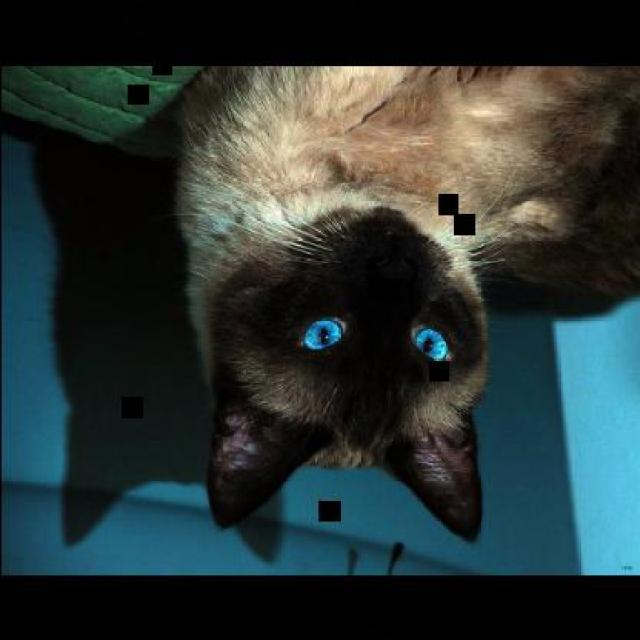unauthorized: (163, 63, 639, 542)
